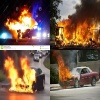fire: (55, 17, 100, 48), (4, 55, 37, 92), (6, 9, 38, 38), (52, 50, 72, 81)
